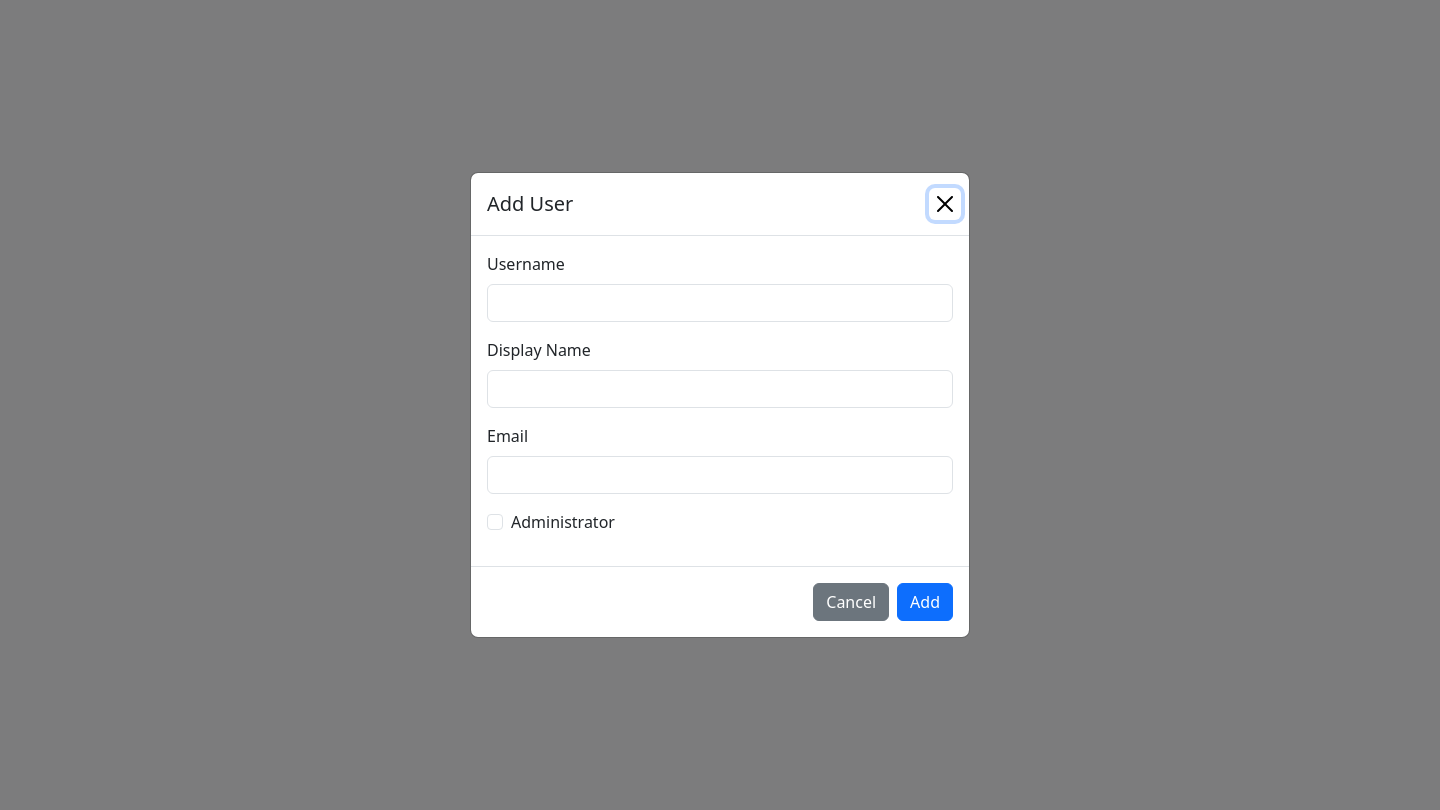
it: CreateUserModal › shows the created result view with temp API key after success
Type "jdoe" into the field labelled "Username" at (720, 303), box [487, 284, 953, 322]
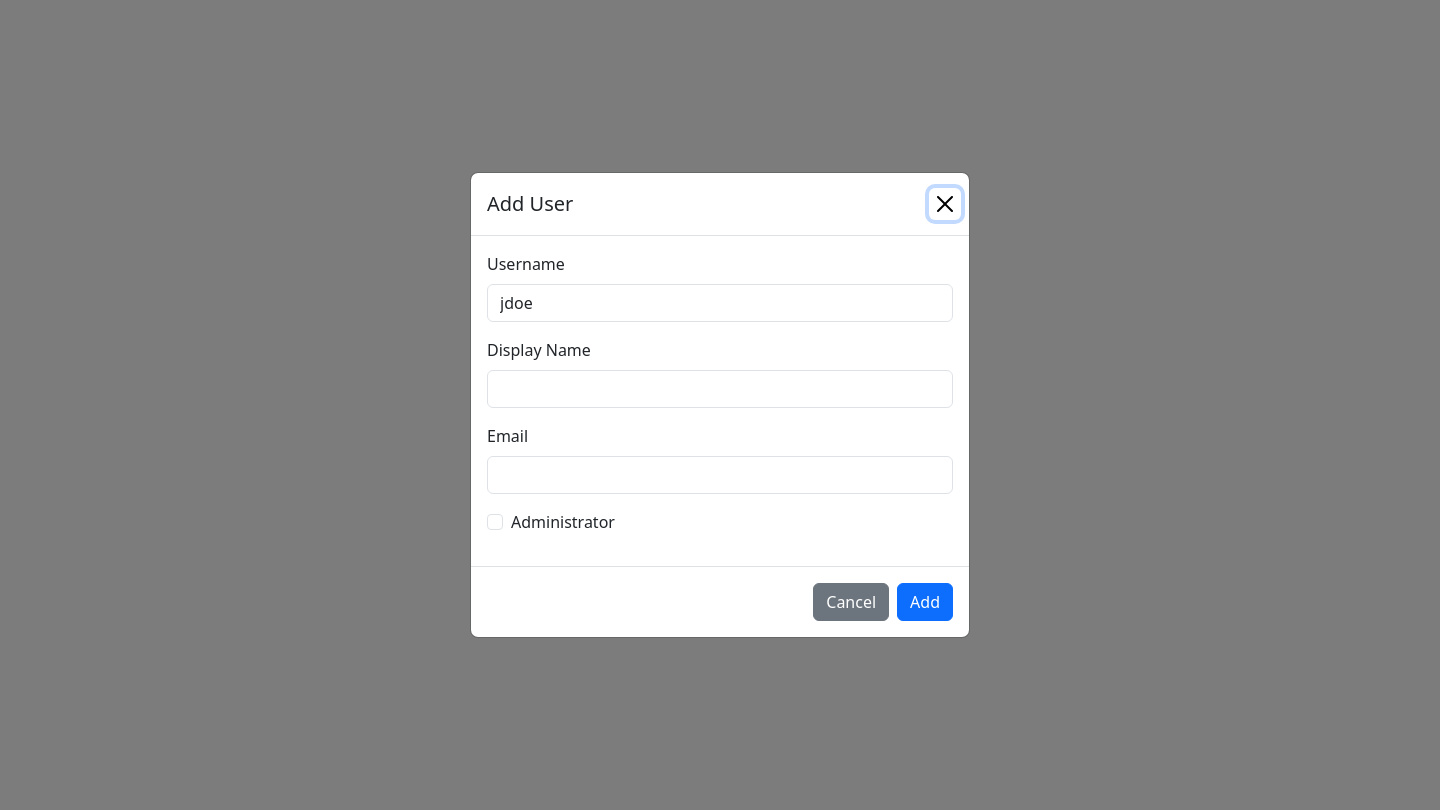
Type "John Doe" into the field labelled "Display Name" at (720, 389), box [487, 370, 953, 408]
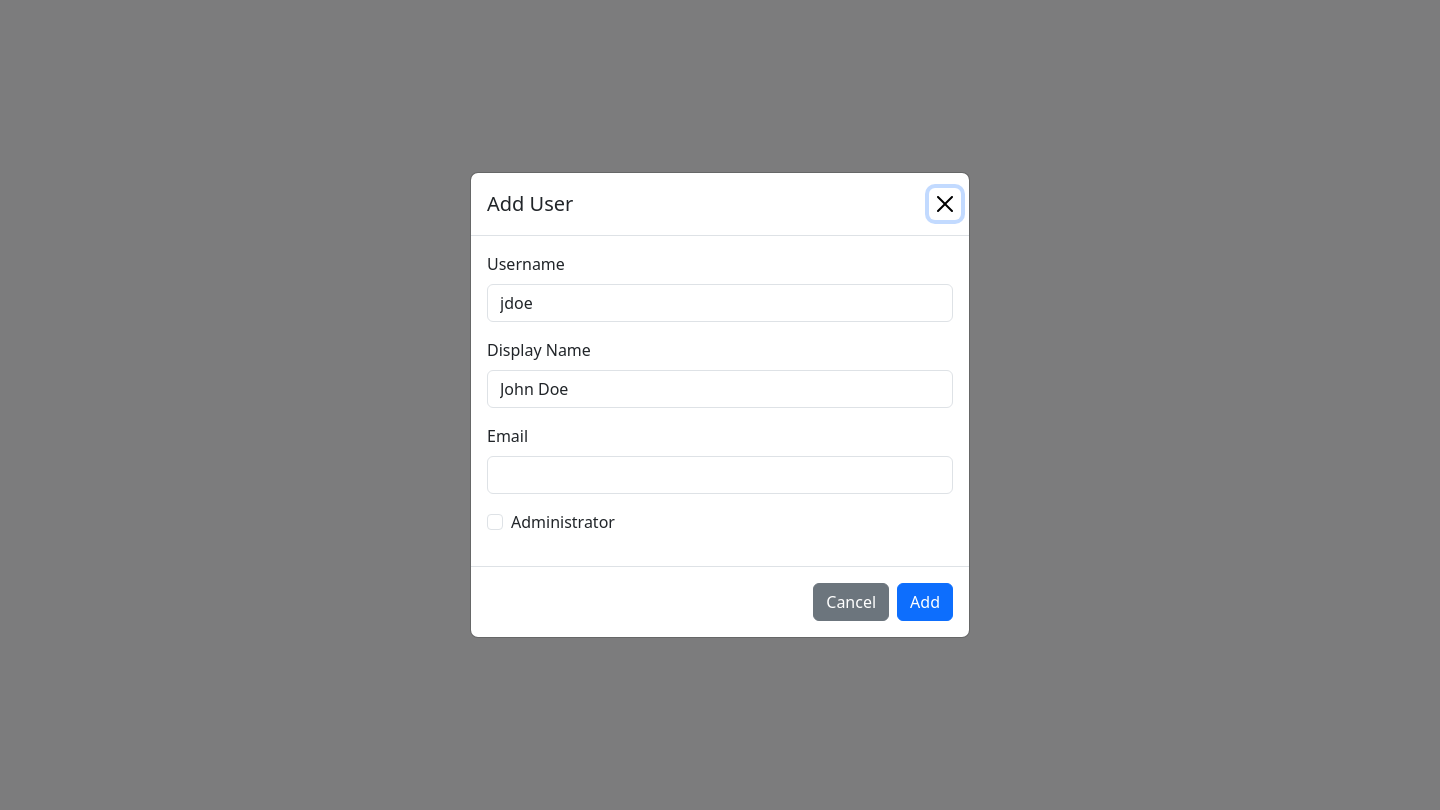
Type "jdoe@example.com" into the field labelled "Email" at (720, 475), box [487, 456, 953, 494]
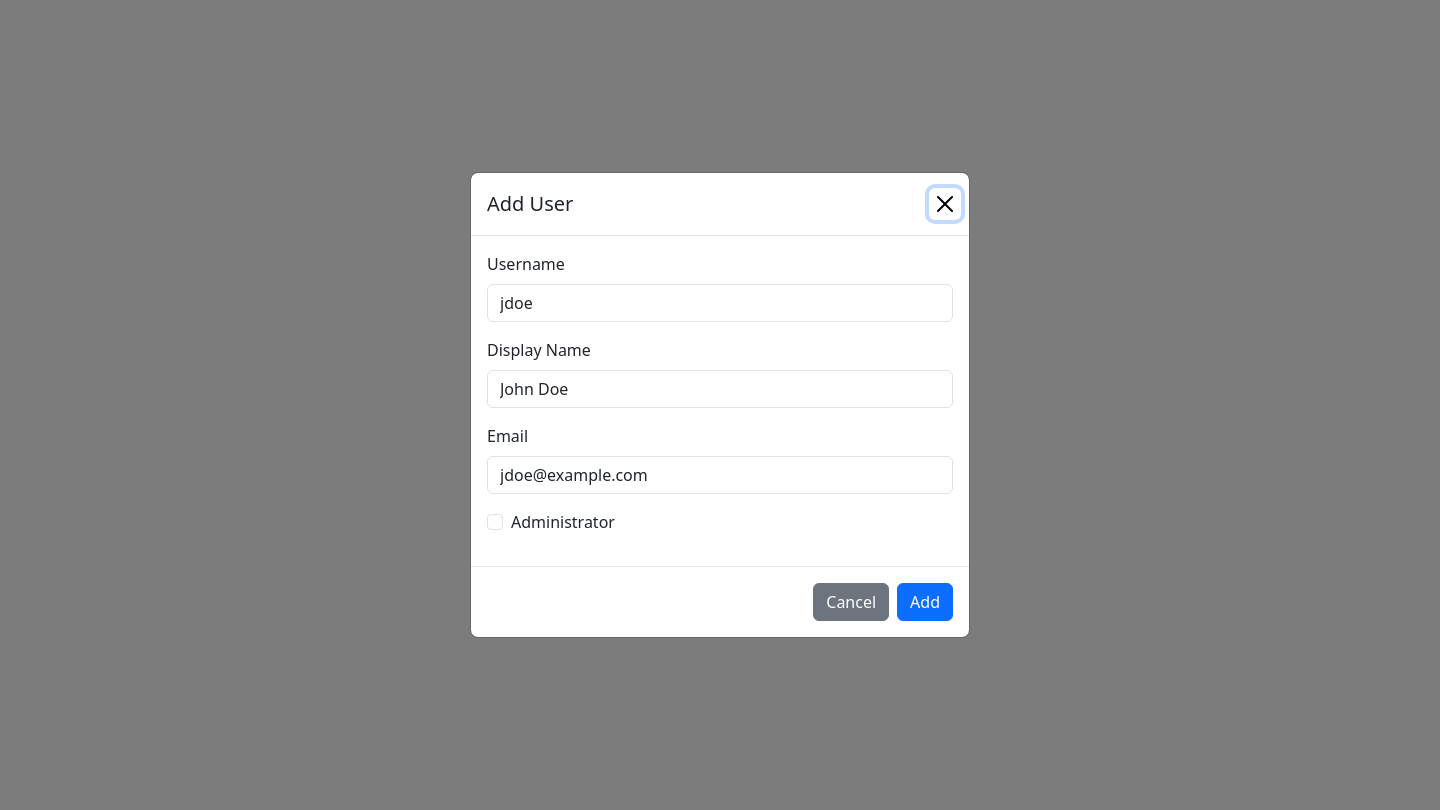
Click the button "Add" at (925, 602), box [897, 583, 953, 621]
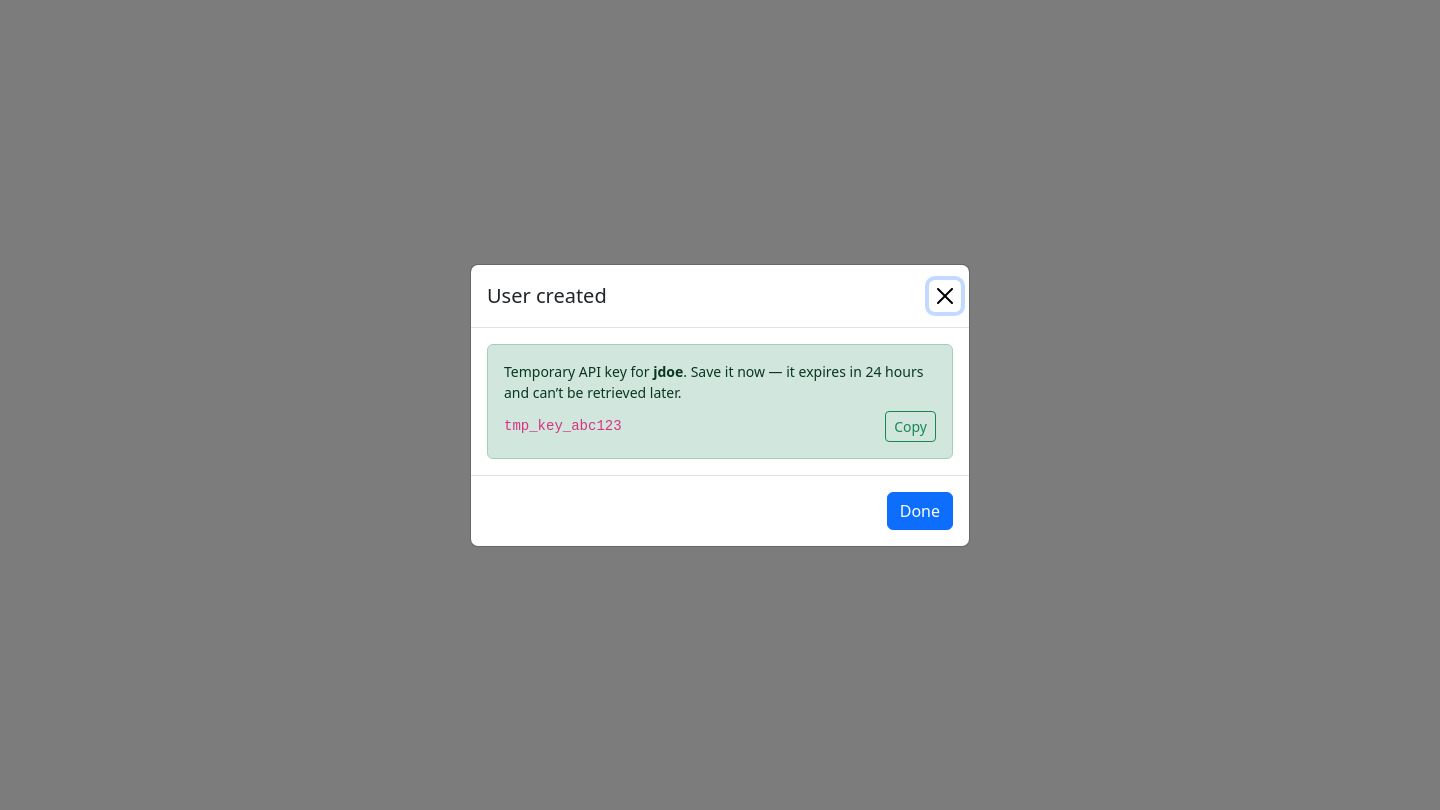
Check: the heading "User created" is shown, box [487, 280, 607, 310]
Check: the text "tmp_key_abc123" is shown, box [504, 418, 622, 434]
Check: the text "jdoe" is shown, box [653, 362, 683, 380]
